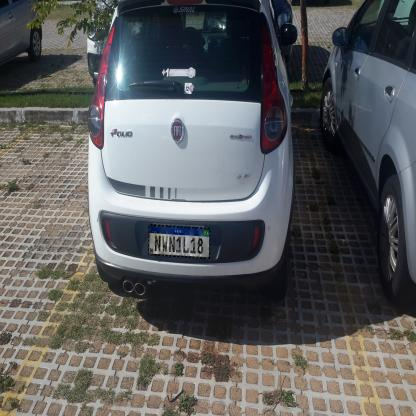PlacaM: (148, 224, 211, 259)
